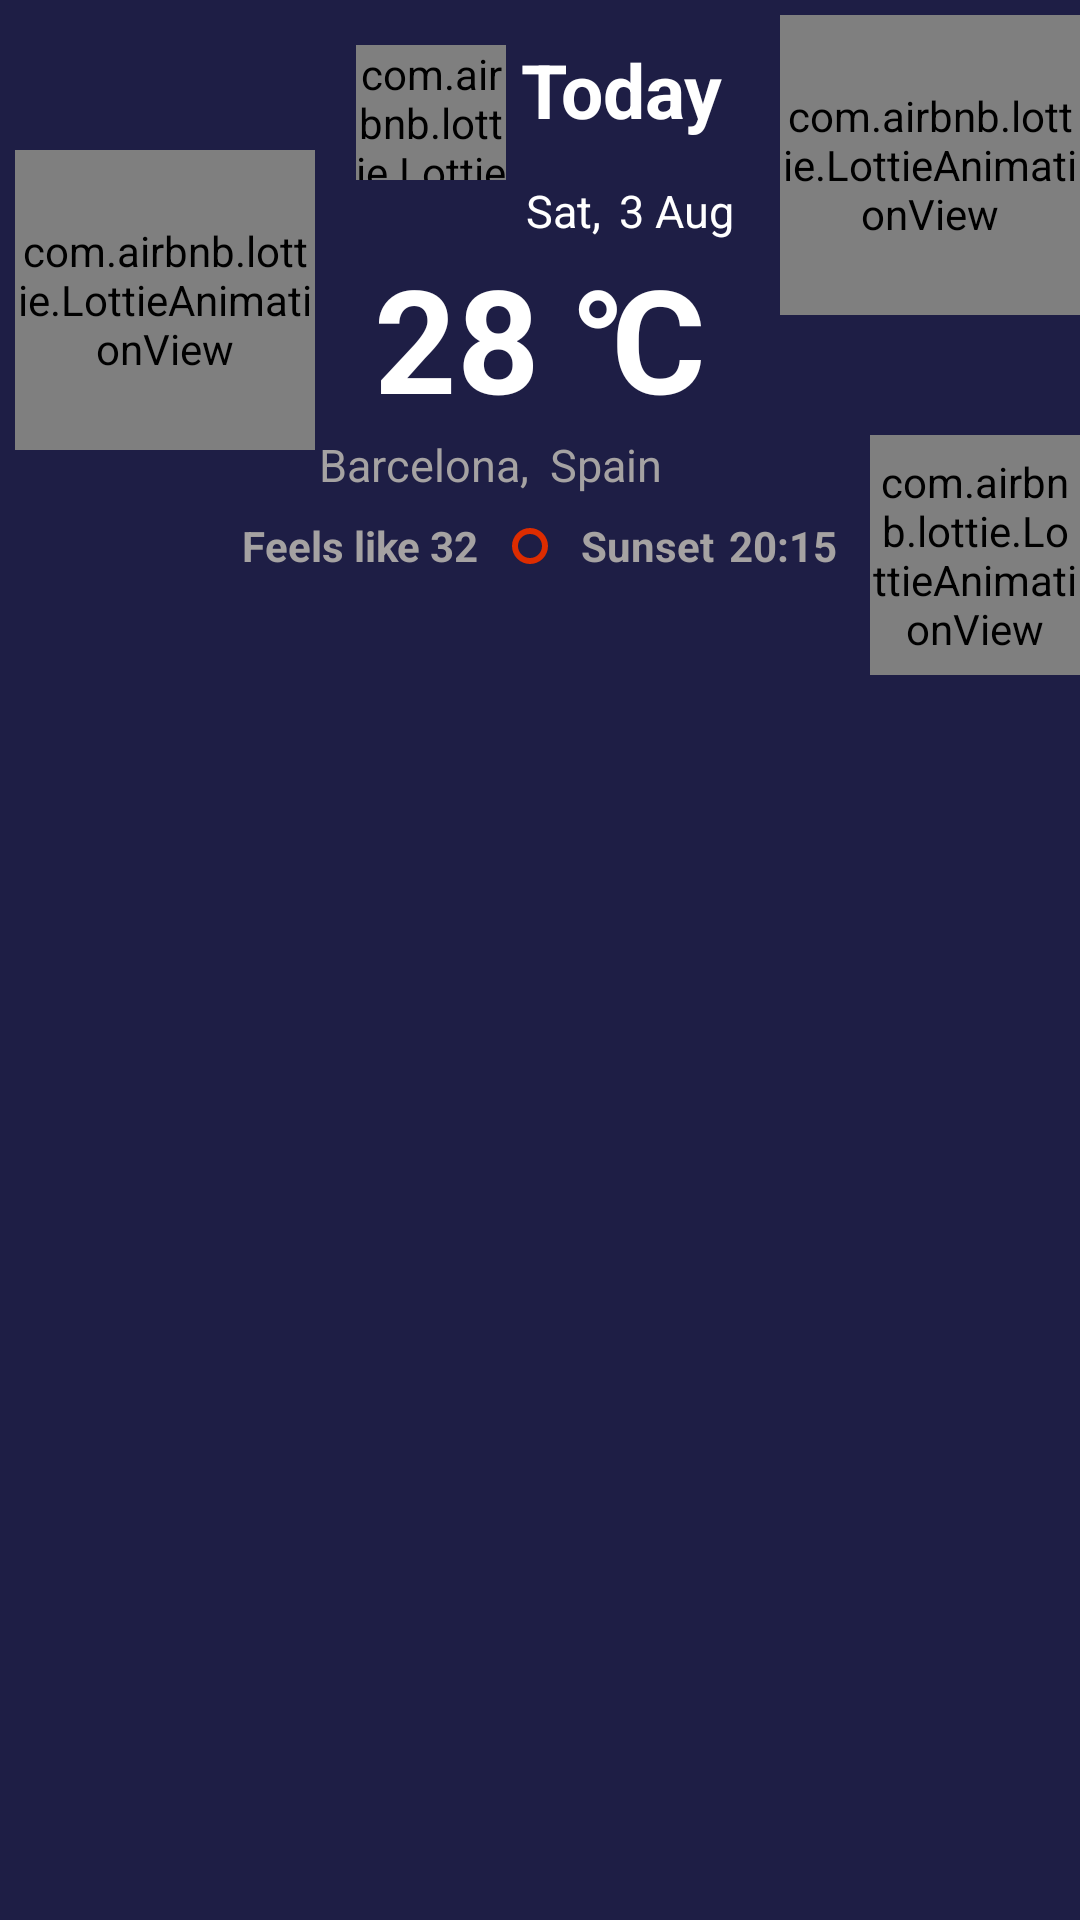

Icons on this 1080px x 1920px Android screen, each with the point to tap as [x,y]:
indicator: [530,546]
